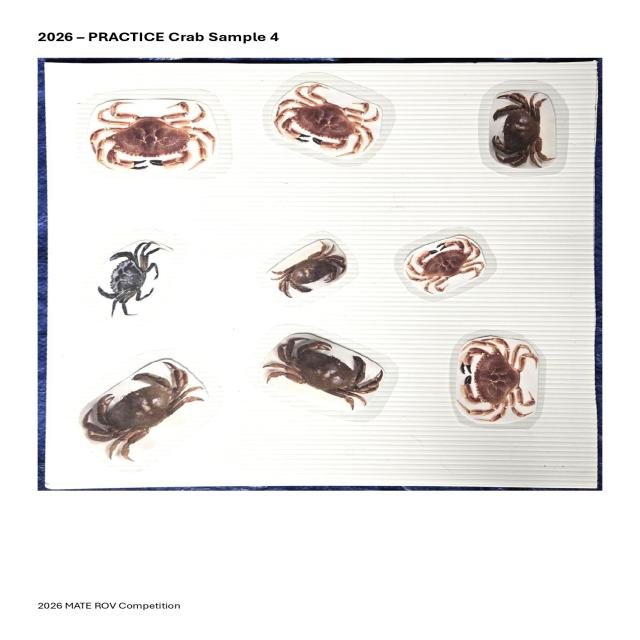egc: (77, 233, 185, 328)
